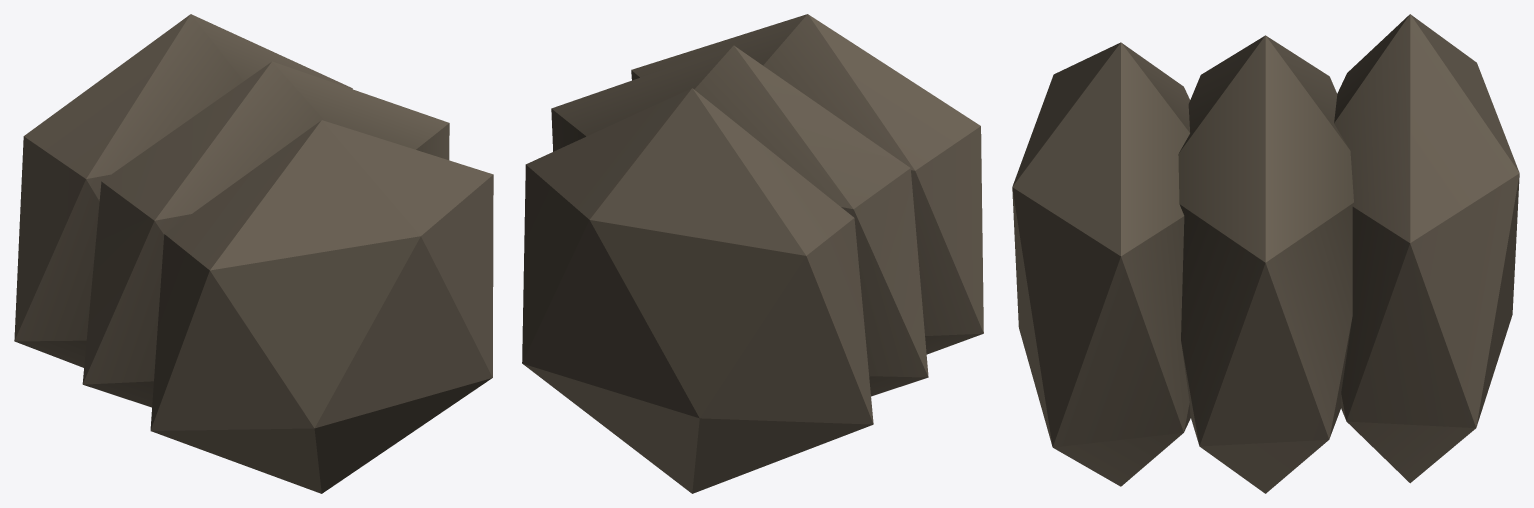
Rendered from skyreach-terrain-stratum-v1.glb.
3 views of the same model, side by side, from view 1: azimuth 30°, elevation 25°; view 2: azimuth 150°, elevation 25°; view 3: azimuth 270°, elevation 25° (orthographic). The views are drawn at different scales.
Visible parts, largest first — view 1: GB_TERRAIN_STRATUM_STONE; view 2: GB_TERRAIN_STRATUM_STONE; view 3: GB_TERRAIN_STRATUM_STONE.
Boxes of the visible parts, <box> form: GB_TERRAIN_STRATUM_STONE: <box>14,14,493,493</box>; GB_TERRAIN_STRATUM_STONE: <box>522,14,983,493</box>; GB_TERRAIN_STRATUM_STONE: <box>1012,14,1519,493</box>.
Size of the model in its own units: 1.07 by 1.07 by 1.05.
